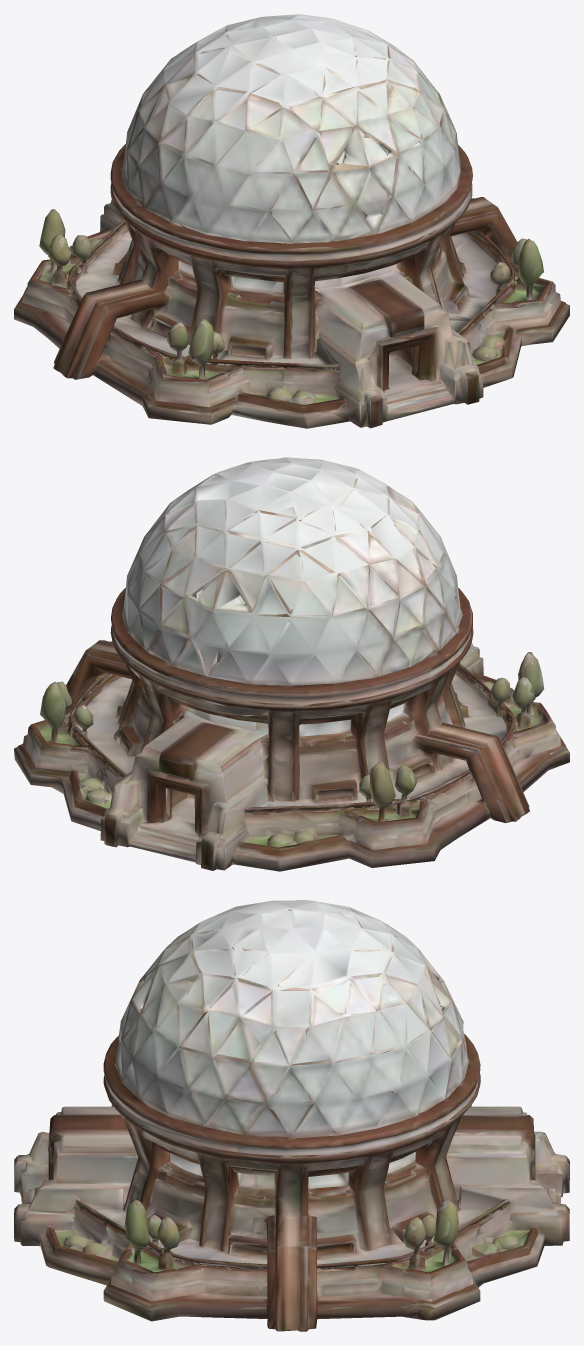
File: dome.glb
3 views of the same model, one above another, from view 1: azimuth 30°, elevation 25°; view 2: azimuth 150°, elevation 25°; view 3: azimuth 270°, elevation 25° (orthographic). The views are drawn at different scales.
Visible parts, largest first — view 1: Mesh_0; view 2: Mesh_0; view 3: Mesh_0.
Boxes of the visible parts, x1,y1,x2,y2 form: Mesh_0: [14, 14, 569, 428]; Mesh_0: [14, 457, 569, 871]; Mesh_0: [14, 900, 569, 1331].
Size of the model in its own units: 1.91 by 1.12 by 1.91.
Materials: 1 (1 with a texture image).
